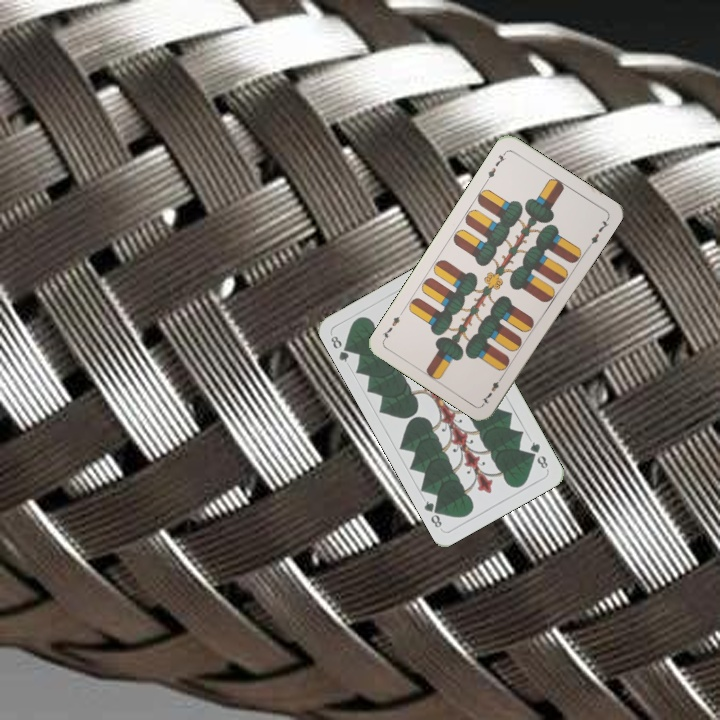E7: (478, 371, 506, 407), (482, 148, 509, 184)
G8: (326, 332, 354, 365), (526, 438, 550, 473)
